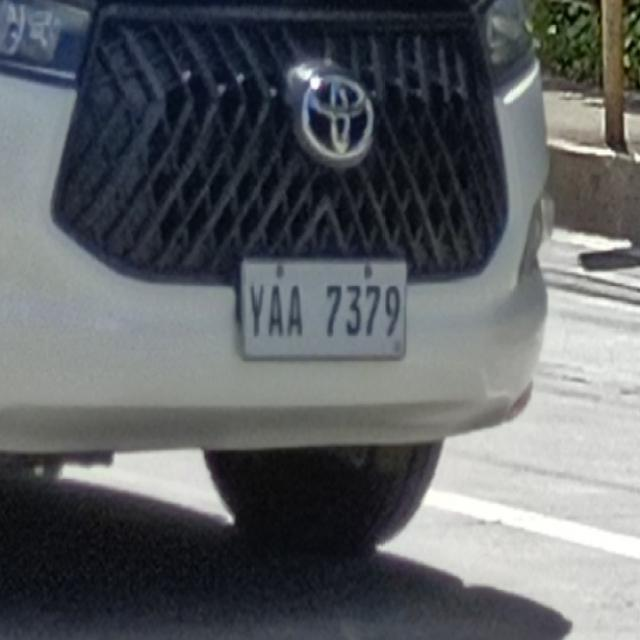LicensePlate: (233, 244, 419, 364)
